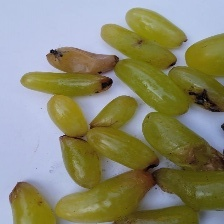grapes: (4, 20, 193, 212)
